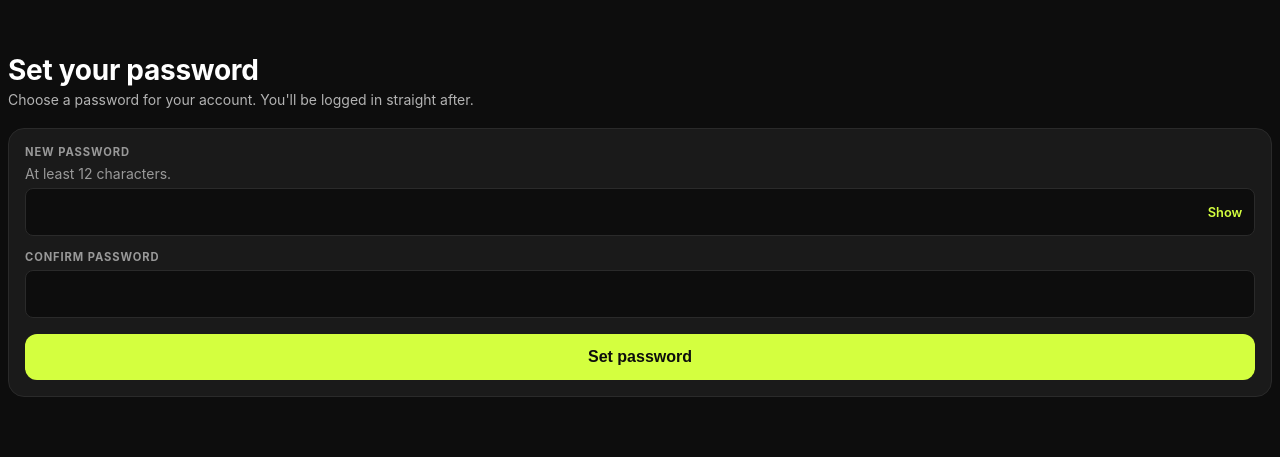
SetPassword › catches a mismatched confirmation before spending the single-use token
Type "a long enough password" into the password field labelled "New password" at x=640, y=212, box left=25, top=188, right=1255, bottom=236
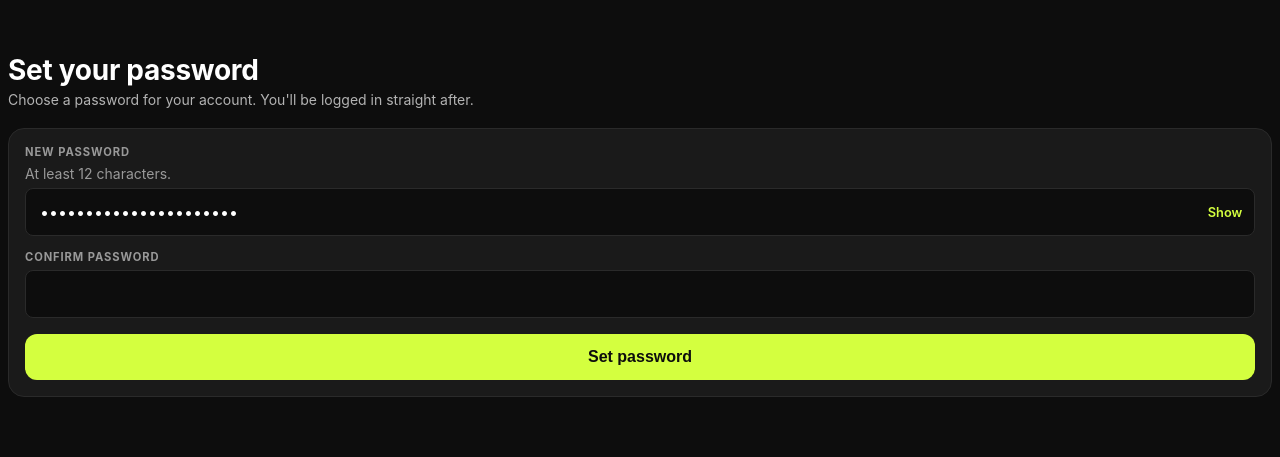
Type "a different password" into the password field labelled "Confirm password" at x=640, y=294, box left=25, top=270, right=1255, bottom=318
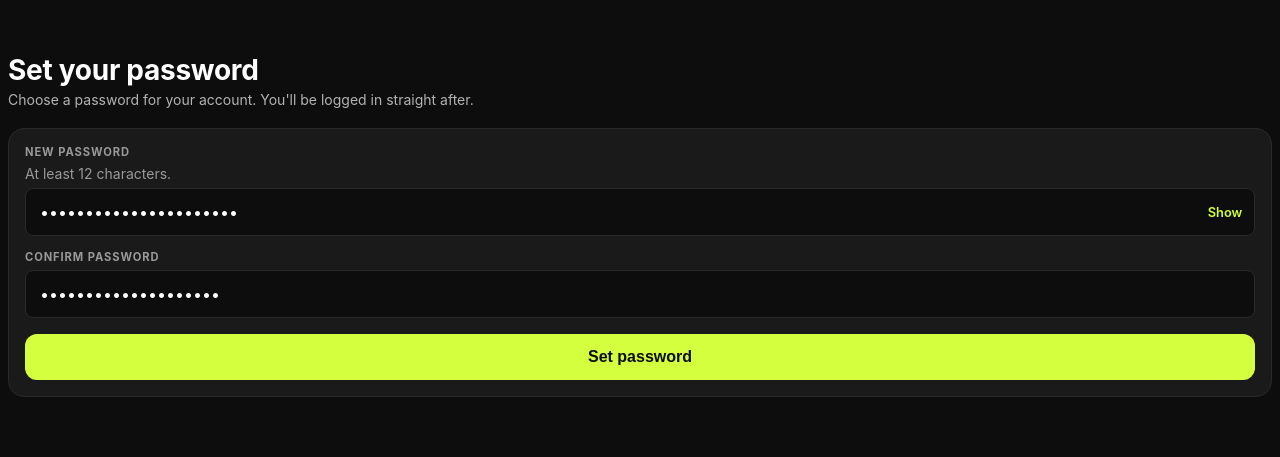
Click the button "Set password" at x=640, y=357, box left=25, top=334, right=1255, bottom=380
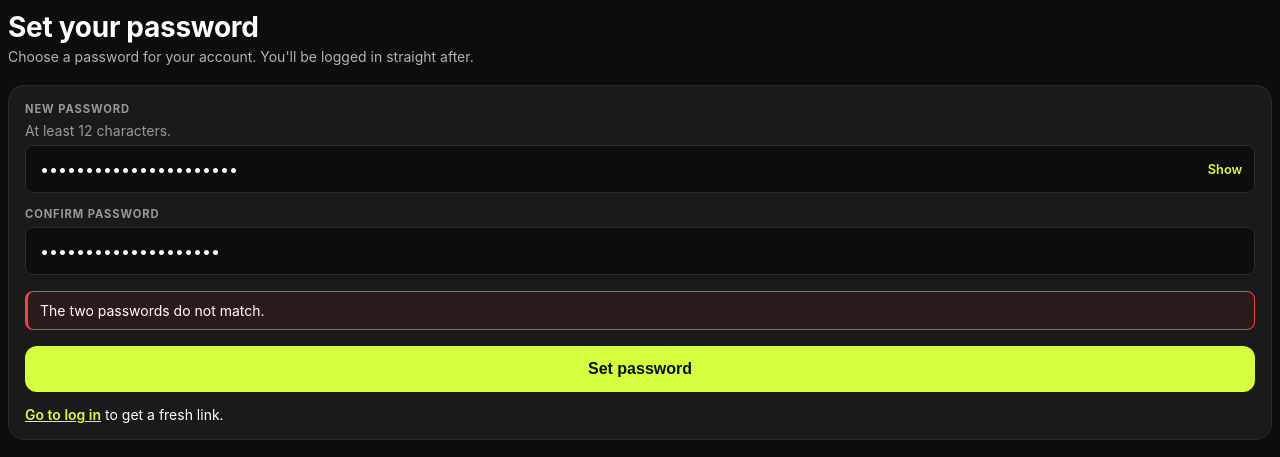
Now the message shows "do not match", box left=40, top=302, right=265, bottom=319
